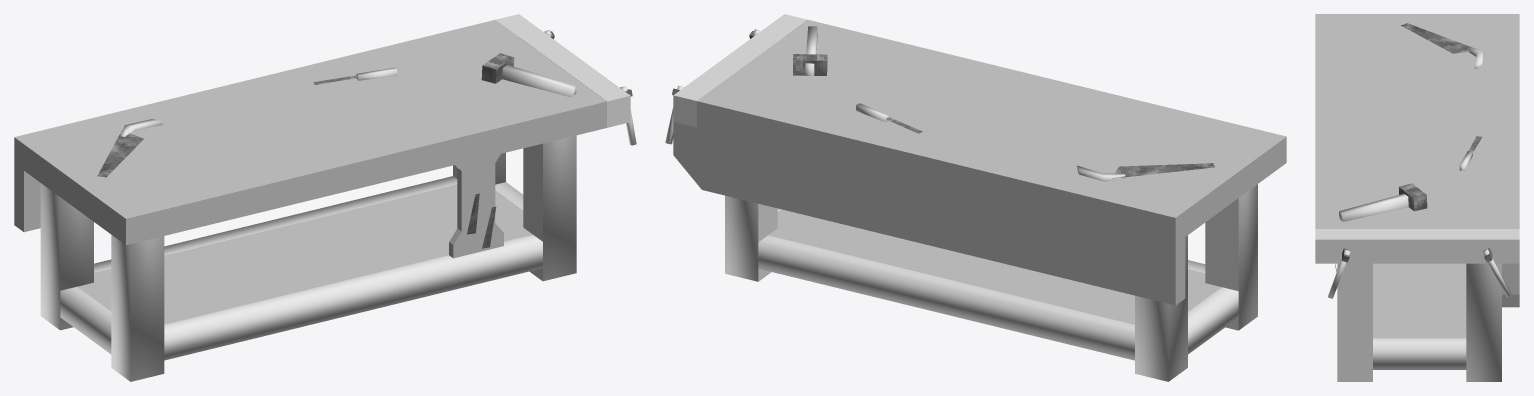
Rendered from CoolerWorkBenchLow.fbx.
3 views of the same model, side by side, from view 1: azimuth 30°, elevation 25°; view 2: azimuth 150°, elevation 25°; view 3: azimuth 270°, elevation 25° (orthographic). The views are drawn at different scales.
Parts seen in each view (by area): view 1: LOD_fw, LOD_cw, LOD_m; view 2: LOD_fw, LOD_cw, LOD_m; view 3: LOD_fw, LOD_cw, LOD_m.
Boxes of the visible parts, <box> form: LOD_fw: <box>14,20,606,324</box>; LOD_cw: <box>40,14,636,381</box>; LOD_m: <box>97,31,632,248</box>; LOD_fw: <box>673,20,1286,324</box>; LOD_cw: <box>665,14,1257,381</box>; LOD_m: <box>672,31,1214,178</box>; LOD_fw: <box>1315,14,1519,338</box>; LOD_cw: <box>1315,46,1519,381</box>; LOD_m: <box>1335,23,1492,271</box>.
Size of the model in its own units: 310 by 109 by 115.
